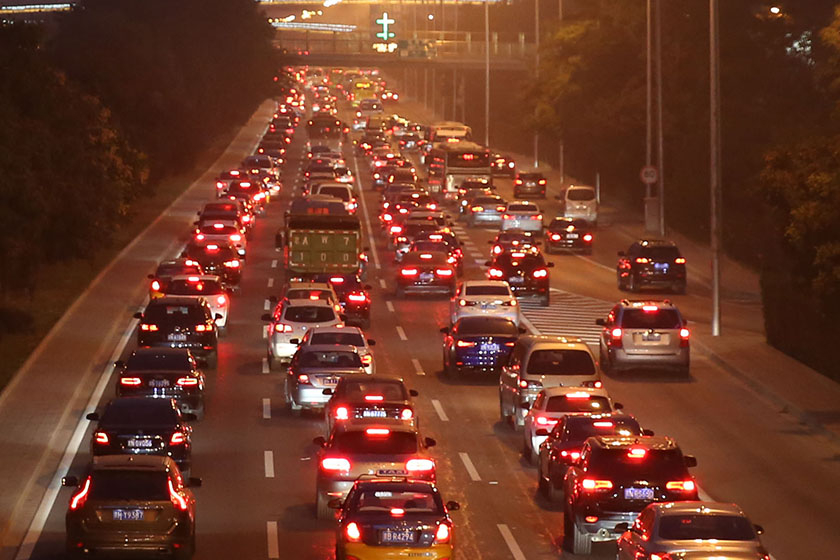bus: (427, 139, 495, 201), (308, 117, 342, 156)
car: (58, 456, 202, 560), (328, 476, 461, 560), (324, 374, 419, 443)
microbus: (499, 332, 602, 432), (555, 184, 598, 225)
suv: (564, 432, 699, 559), (596, 297, 691, 378), (486, 245, 556, 308)
truck: (278, 201, 365, 298)
